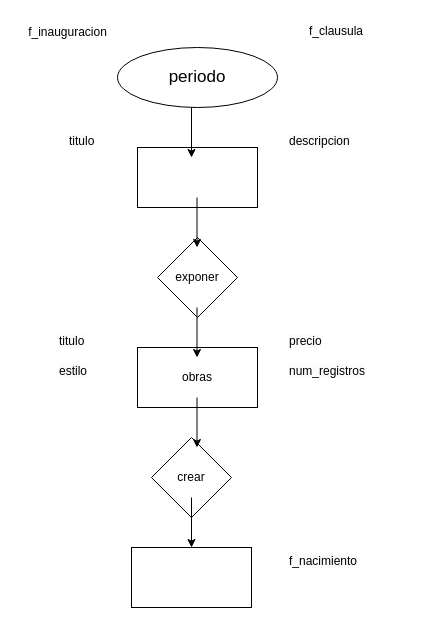
Some shapes in this 434 by 625 pixel diagram are drawn without their labels. The centre of each missing label's shape, as x and y in pixels:
artistas: pixel 191 577
exposicion: pixel 197 177
